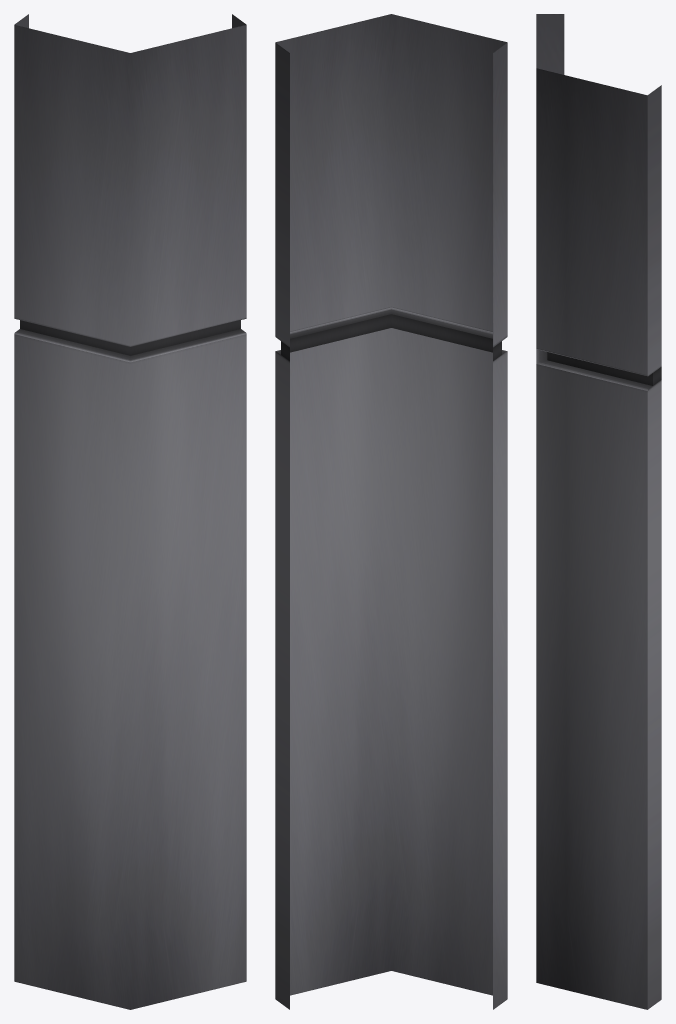
The model's file is OBT_MOT_HB.fbx.
3 views of the same model, side by side, from view 1: azimuth 30°, elevation 25°; view 2: azimuth 210°, elevation 25°; view 3: azimuth 330°, elevation 25° (orthographic). The views are drawn at different scales.
Parts seen in each view (by area): view 1: OBT_MOT_HB; view 2: OBT_MOT_HB; view 3: OBT_MOT_HB.
Part boxes in pixels (x1,y1,x2,y2): OBT_MOT_HB: [14, 14, 246, 1009]; OBT_MOT_HB: [275, 14, 507, 1009]; OBT_MOT_HB: [536, 14, 661, 1009].
Bounding box in the file's own units: 0.8583 × 4.5 × 0.558.
